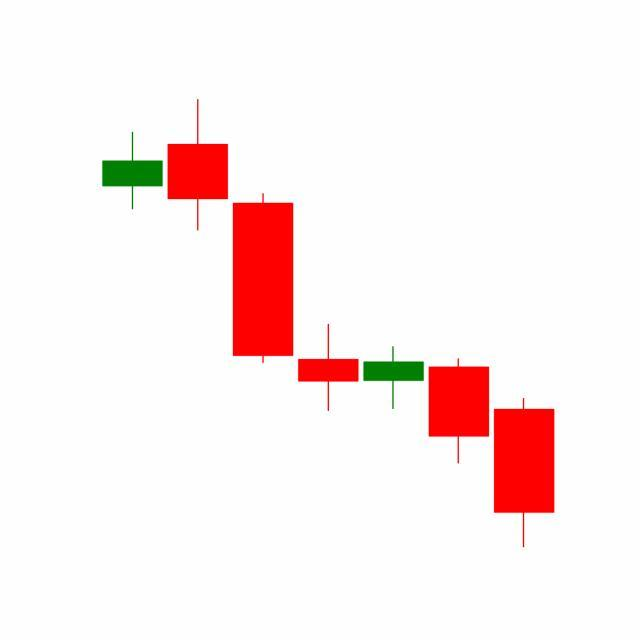Hikkake Pattern: (165, 100, 492, 470)
